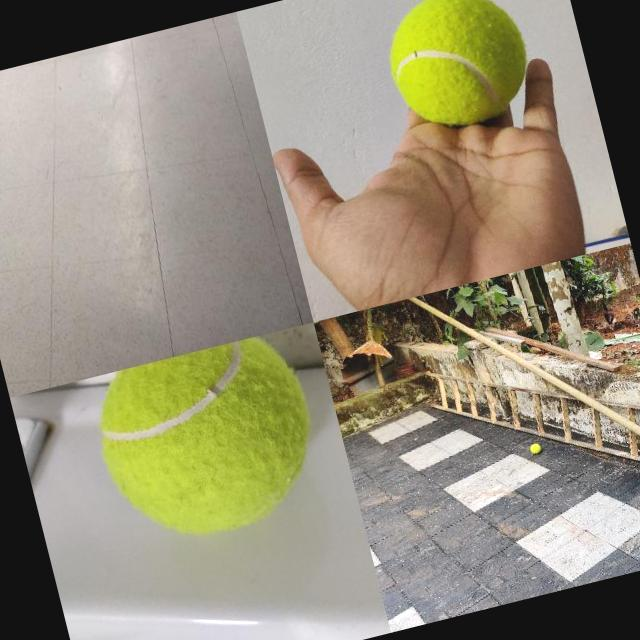tennis-ball: (80, 328, 336, 560), (373, 0, 540, 141), (528, 442, 542, 454)
